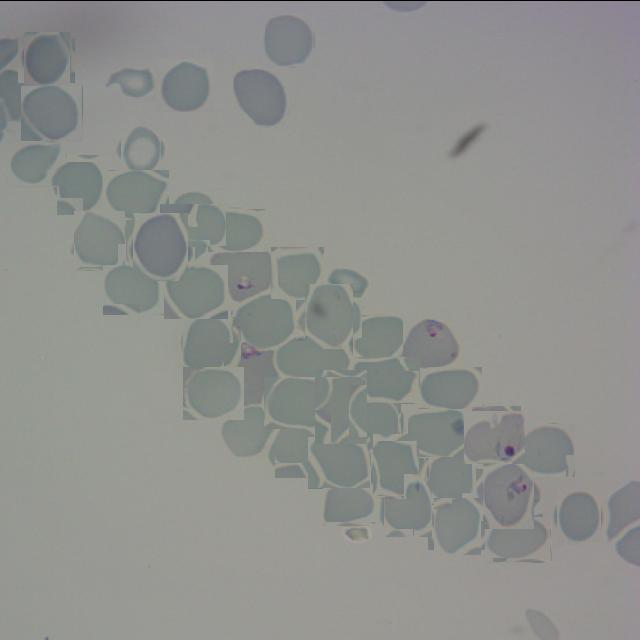leukocyte: (315, 369, 368, 444), (130, 215, 192, 278), (264, 376, 333, 428), (21, 85, 83, 141), (164, 264, 228, 318), (275, 334, 350, 380), (103, 169, 169, 221), (404, 408, 473, 457), (180, 312, 238, 370), (233, 68, 290, 127), (300, 287, 358, 344), (308, 436, 371, 488), (351, 356, 420, 403), (183, 366, 244, 419), (236, 294, 296, 347), (72, 212, 128, 268), (485, 516, 552, 562), (368, 438, 424, 493), (103, 264, 164, 314), (166, 197, 221, 252), (54, 156, 108, 212), (157, 58, 213, 111), (417, 366, 482, 411), (521, 423, 575, 477), (431, 499, 484, 552), (271, 246, 324, 298), (222, 404, 274, 457), (353, 398, 405, 450), (382, 482, 434, 534), (553, 491, 604, 542), (264, 14, 314, 66), (9, 142, 67, 186), (21, 34, 72, 84), (428, 452, 478, 502), (208, 207, 266, 250), (272, 426, 320, 474), (353, 314, 403, 360), (323, 484, 376, 526), (118, 126, 164, 172), (106, 66, 156, 99), (326, 267, 371, 297)
red blood cell: (208, 245, 278, 300), (478, 464, 538, 524), (224, 342, 277, 409), (400, 317, 464, 370), (466, 408, 523, 464)
